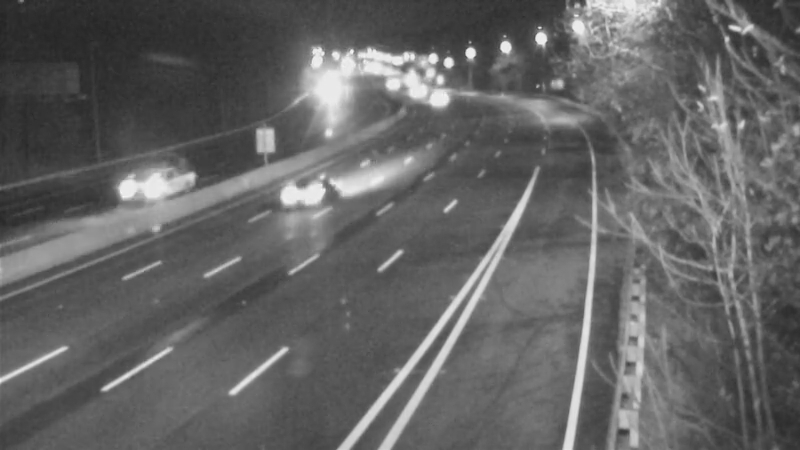vehicle: (267, 148, 347, 228), (105, 147, 185, 227), (365, 58, 415, 108), (393, 66, 443, 116), (414, 78, 464, 128)
